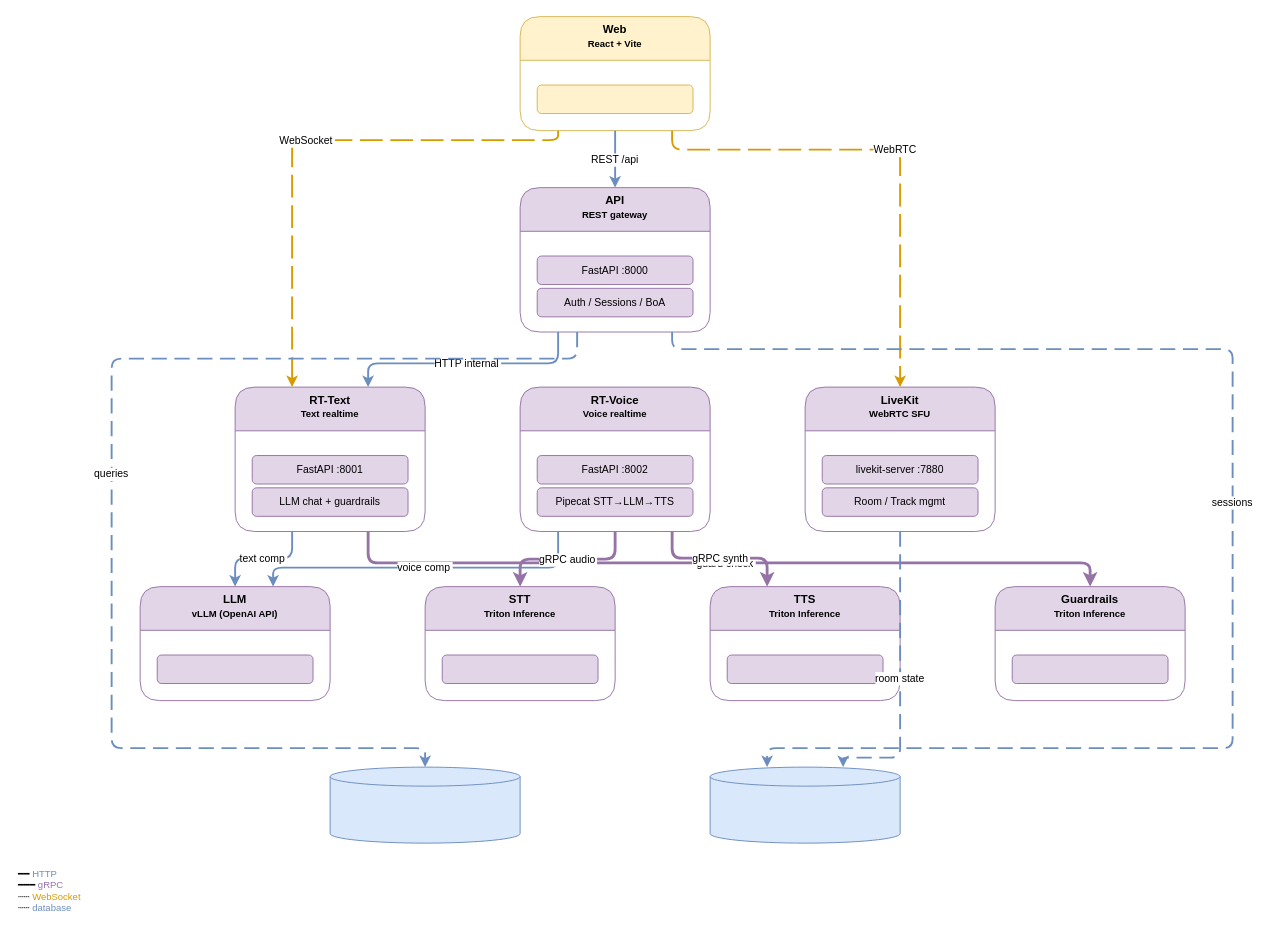
Some shapes in this 1270 by 945 pixel diagram are drawn without their labels. Each missing label, with the centre of its shape:
Chatterbox / Kokoro: pixel 804 669
Input / Output rails: pixel 1089 669
NeMo (Nemotron ASR): pixel 519 669
PostgreSQL v16 · Conversations: pixel 424 804
Qwen3-8B / Gemma-4: pixel 234 669
Redis v7 · Sessions + Rooms: pixel 804 804
Vite :3000 / LiveKit SDK: pixel 614 99
